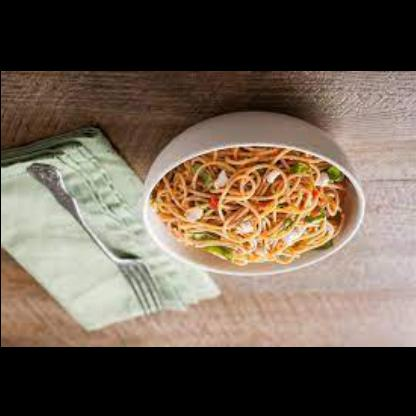spaghetti: (149, 147, 345, 265)
